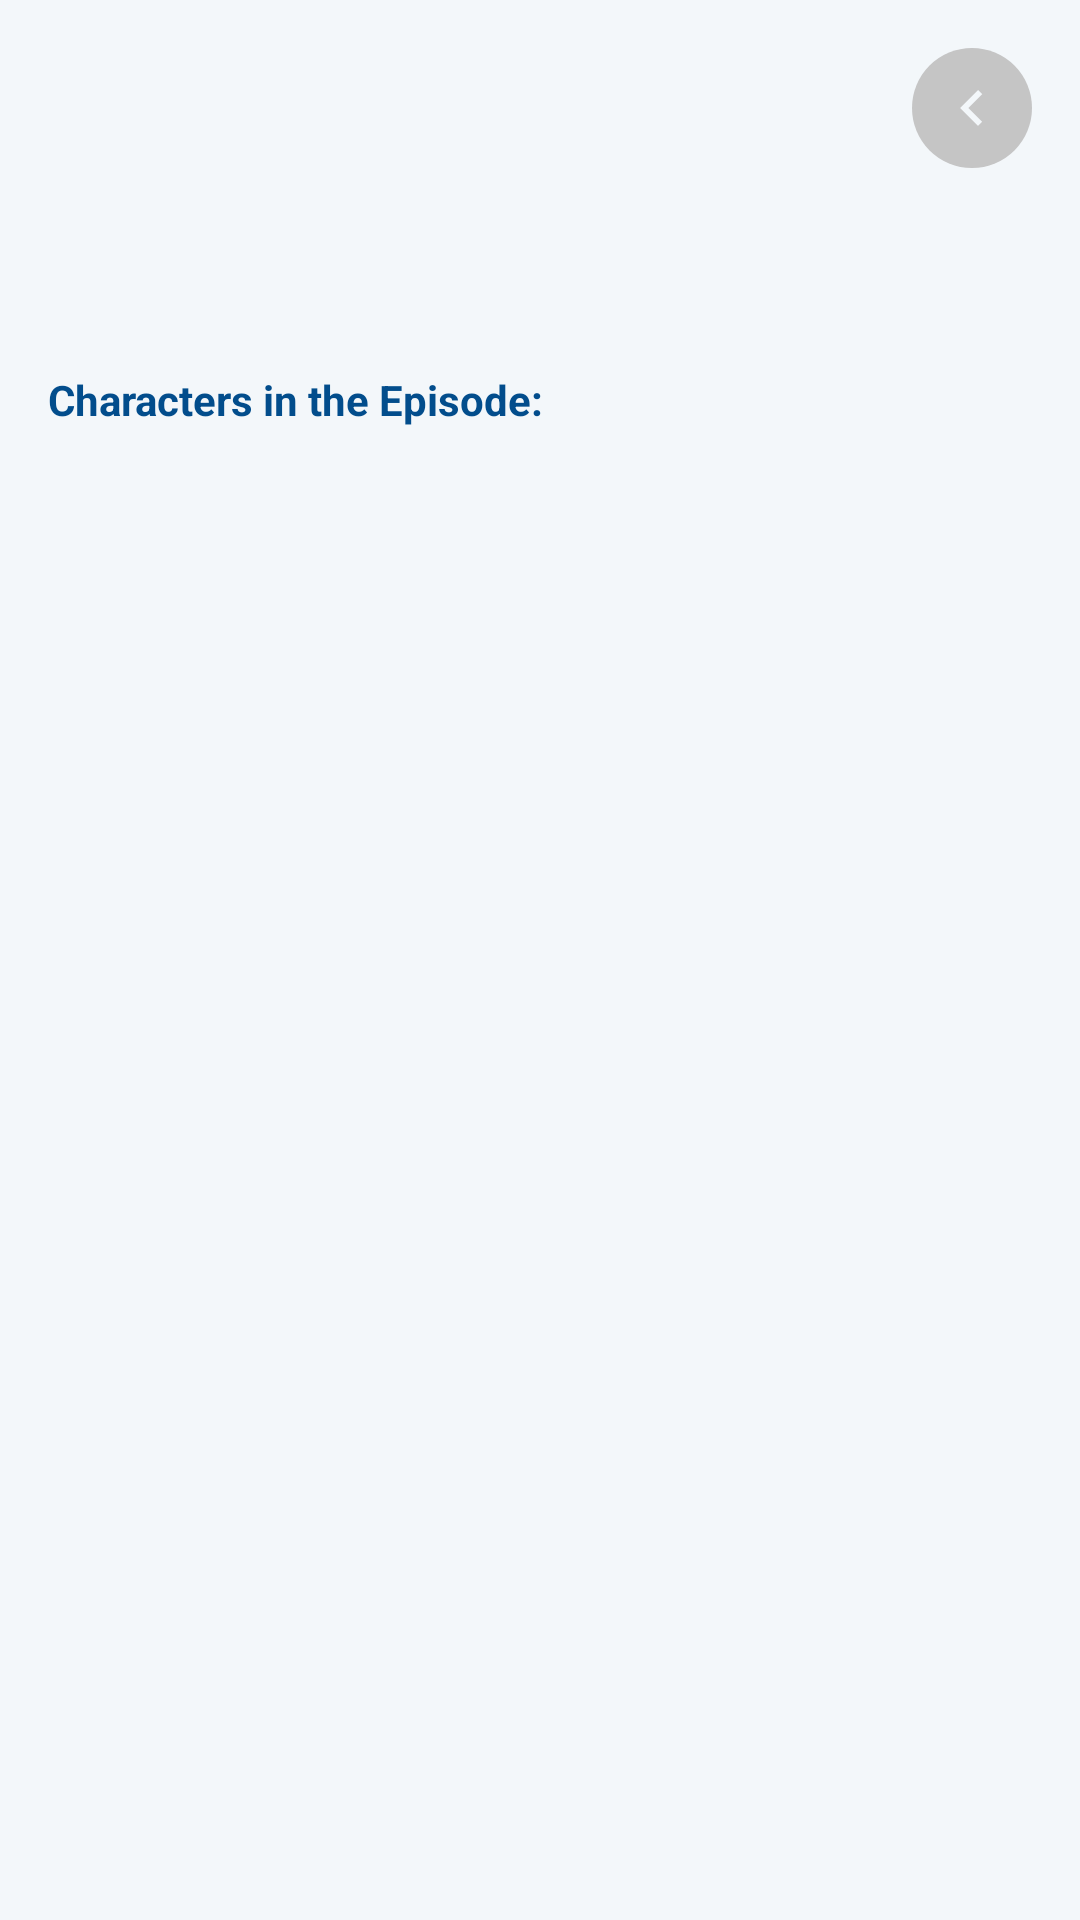

Where icons sit on this 1080 × 1920 app screen, as (x1, y1, x2, y2):
back: (912, 48, 1032, 168)
